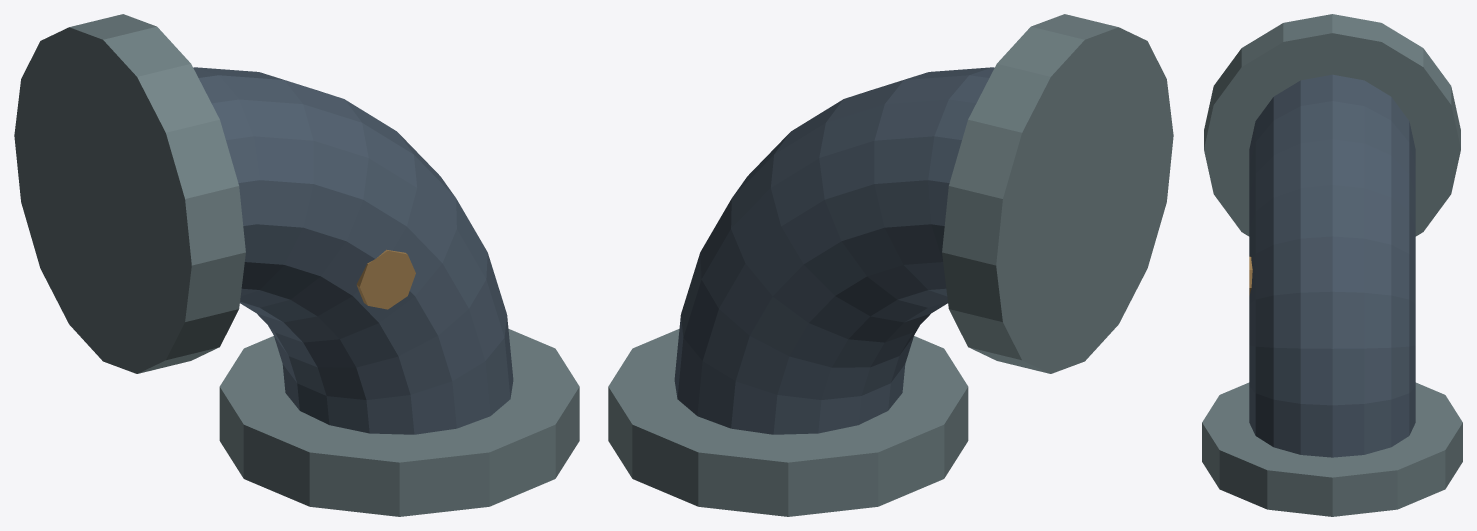
The model's file is E-07_cast_elbow.glb.
The picture shows the model from 3 angles, left to right: view 1: azimuth 30°, elevation 25°; view 2: azimuth 150°, elevation 25°; view 3: azimuth 270°, elevation 25°; orthographic projection. The views are drawn at different scales.
Visible parts, largest first — view 1: E-07_cast_elbow; view 2: E-07_cast_elbow; view 3: E-07_cast_elbow.
Part boxes in pixels (box(x1,y1,x2,y2)): E-07_cast_elbow: box(14, 14, 579, 516); E-07_cast_elbow: box(608, 14, 1173, 516); E-07_cast_elbow: box(1202, 14, 1462, 516).
Size of the model in its own units: 0.209 by 0.209 by 0.144.
